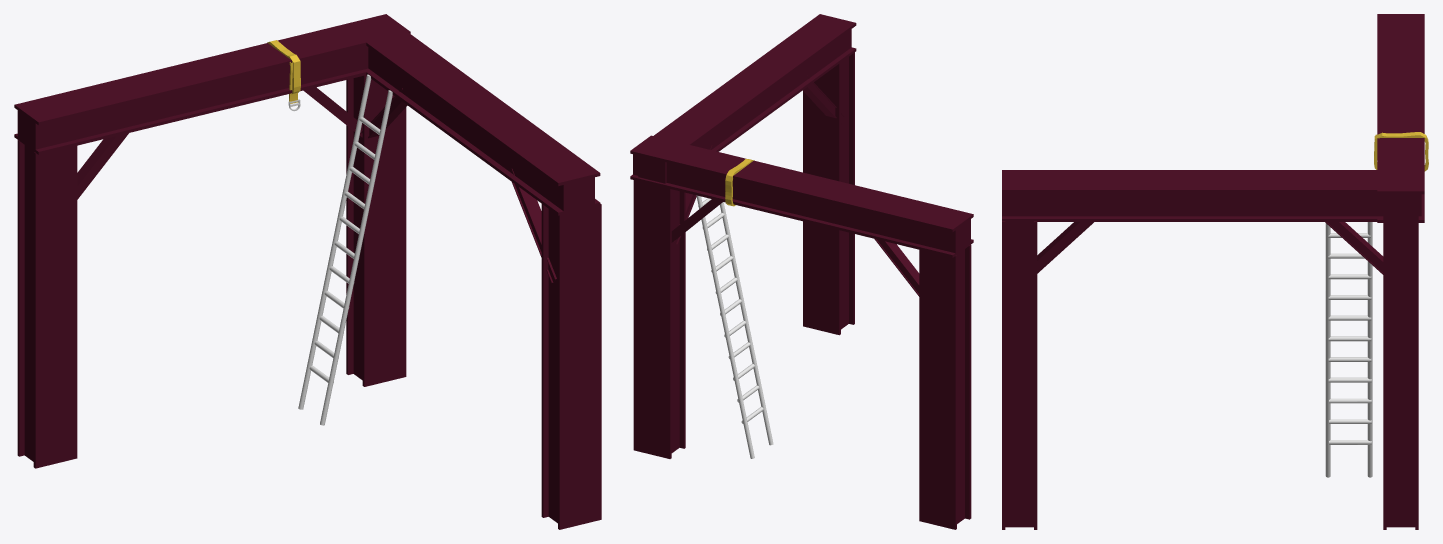
Rendered from Estructura.fbx.
The picture shows the model from 3 angles, left to right: view 1: azimuth 30°, elevation 25°; view 2: azimuth 150°, elevation 25°; view 3: azimuth 270°, elevation 25°; orthographic projection. The views are drawn at different scales.
Visible parts, largest first — view 1: Cube, escaleras, nudo agarradera; view 2: Cube, escaleras, nudo agarradera; view 3: Cube, escaleras, nudo agarradera.
Boxes of the visible parts, x1=… form: Cube: x1=14, y1=14, x2=601, y2=529; escaleras: x1=298, y1=74, x2=392, y2=425; nudo agarradera: x1=267, y1=40, x2=300, y2=111; Cube: x1=630, y1=14, x2=973, y2=529; escaleras: x1=696, y1=195, x2=773, y2=458; nudo agarradera: x1=725, y1=159, x2=754, y2=206; Cube: x1=1002, y1=14, x2=1424, y2=529; escaleras: x1=1325, y1=222, x2=1372, y2=477; nudo agarradera: x1=1374, y1=132, x2=1428, y2=171.
Bounding box in the file's own units: 1480 × 1335 × 1506.
